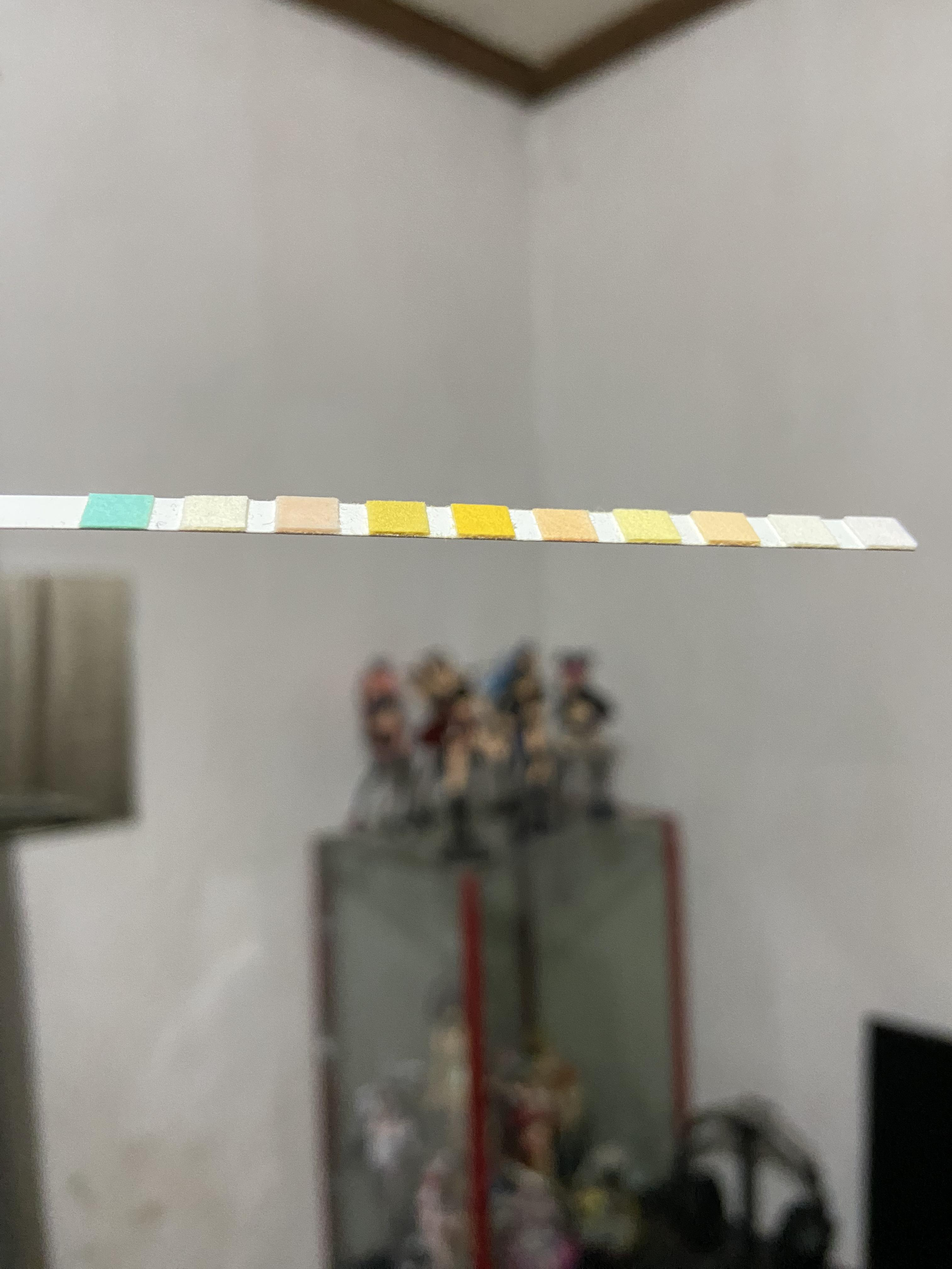Bilirubin: (189, 497, 245, 527)
Blood: (458, 505, 507, 537)
Glucose: (92, 493, 145, 526)
Ketone: (278, 497, 337, 529)
Leukocytes: (863, 517, 896, 547)
Nitrite: (786, 515, 822, 543)
Protein: (627, 510, 669, 540)
SpGravity: (369, 501, 423, 531)
Urobilinogen: (706, 513, 744, 544)
pH: (543, 509, 588, 538)
strip: (0, 496, 916, 550)
